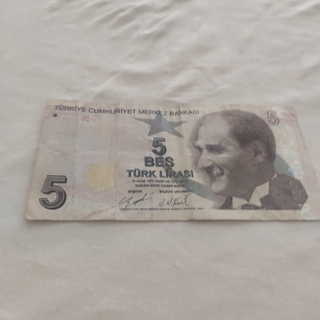5TLFront: (23, 100, 320, 221)
